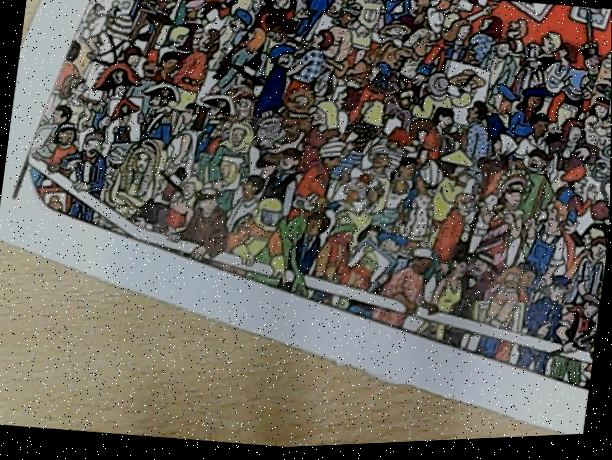waldo: (228, 84, 257, 128)
